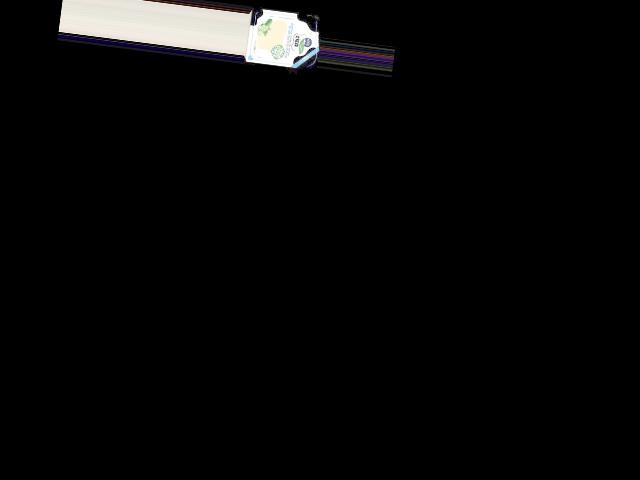cheese: (242, 4, 322, 73)
